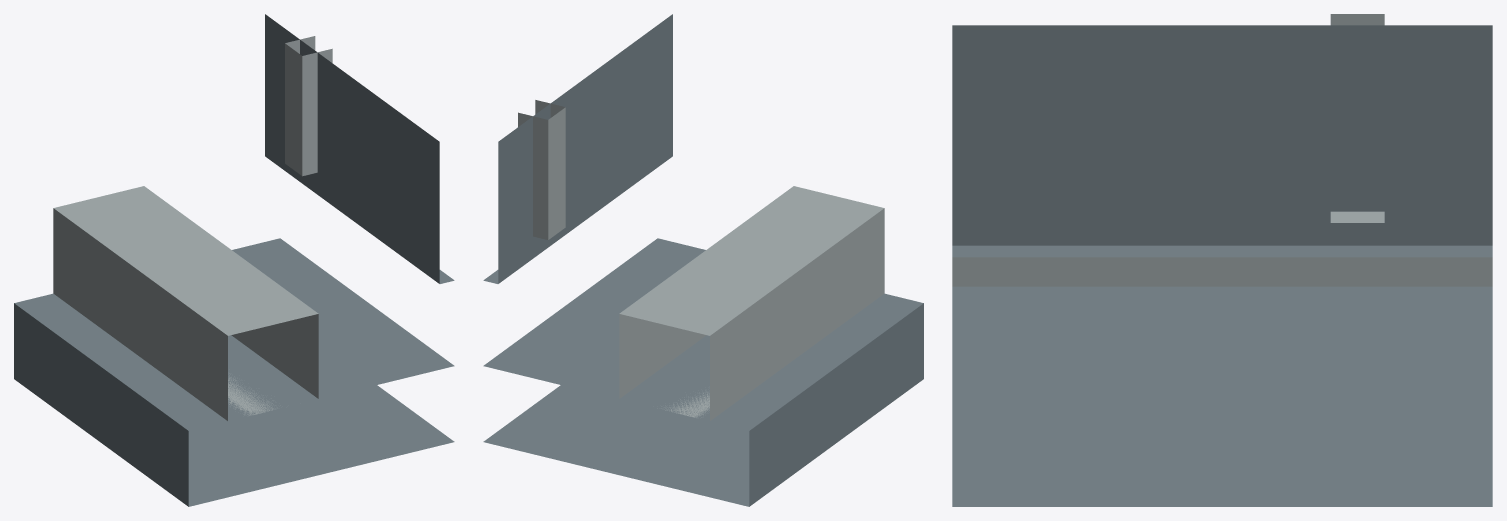
Rendered from cell_10.obj.
The picture shows the model from 3 angles, left to right: view 1: azimuth 30°, elevation 25°; view 2: azimuth 150°, elevation 25°; view 3: azimuth 270°, elevation 25°; orthographic projection. The views are drawn at different scales.
Size of the model in its own units: 0.88 by 0.96 by 1.
